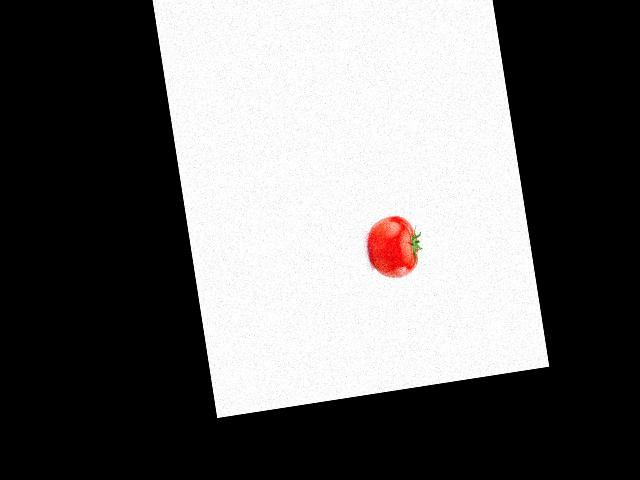tomato: (364, 212, 422, 281)
